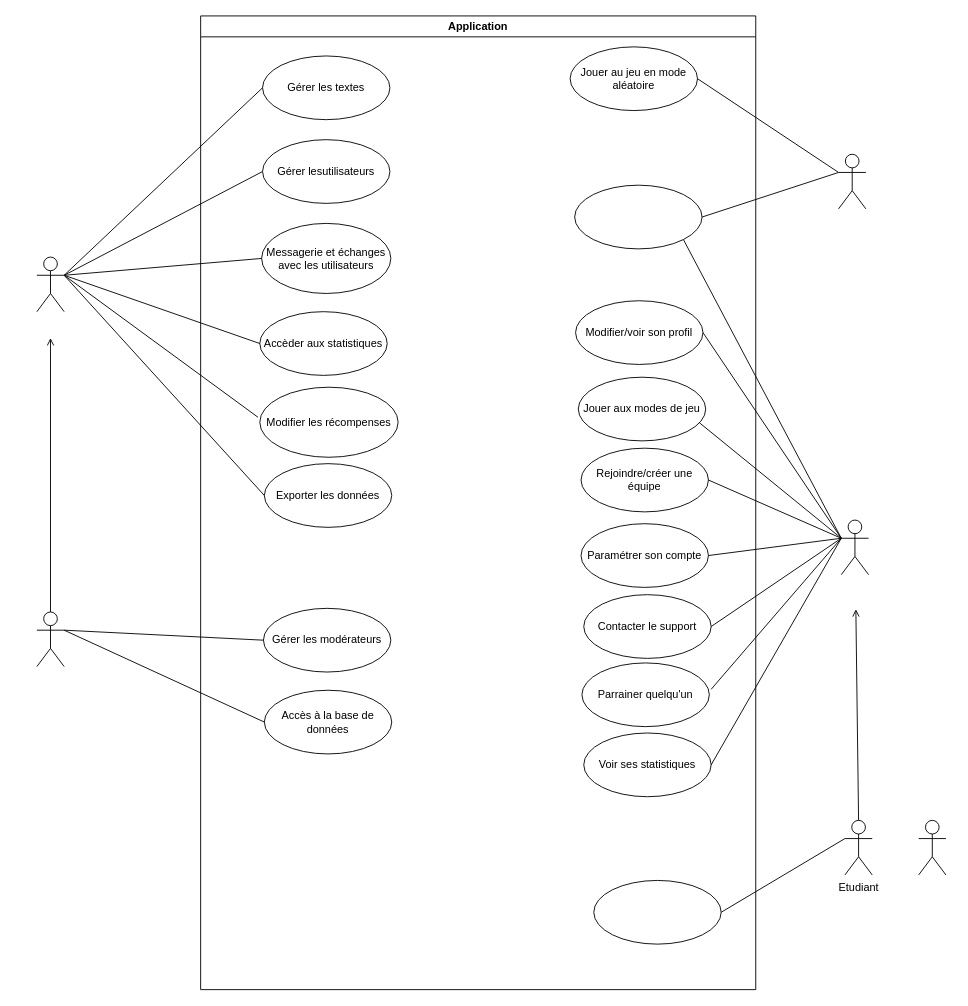
This 968x1006 diagram has some shape labels left out. The centre of each missing label's shape, as x and y in pixels:
Administrateur: (x=50, y=639)
Consulter les classements: (x=638, y=216)
Jouer aux jeux de révisions: (x=657, y=912)
Joueur classique: (x=854, y=547)
Modérateur: (x=50, y=284)
Médecin: (x=932, y=847)
Utilisateur non connecté: (x=852, y=181)
